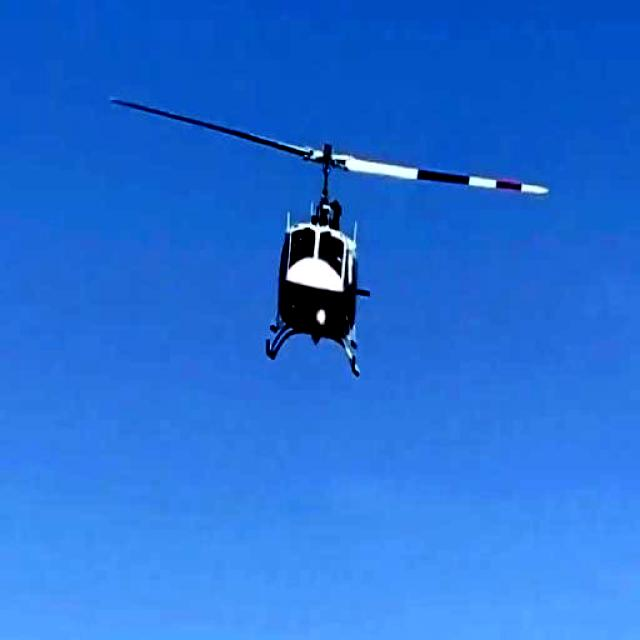drone: (101, 75, 556, 388)
